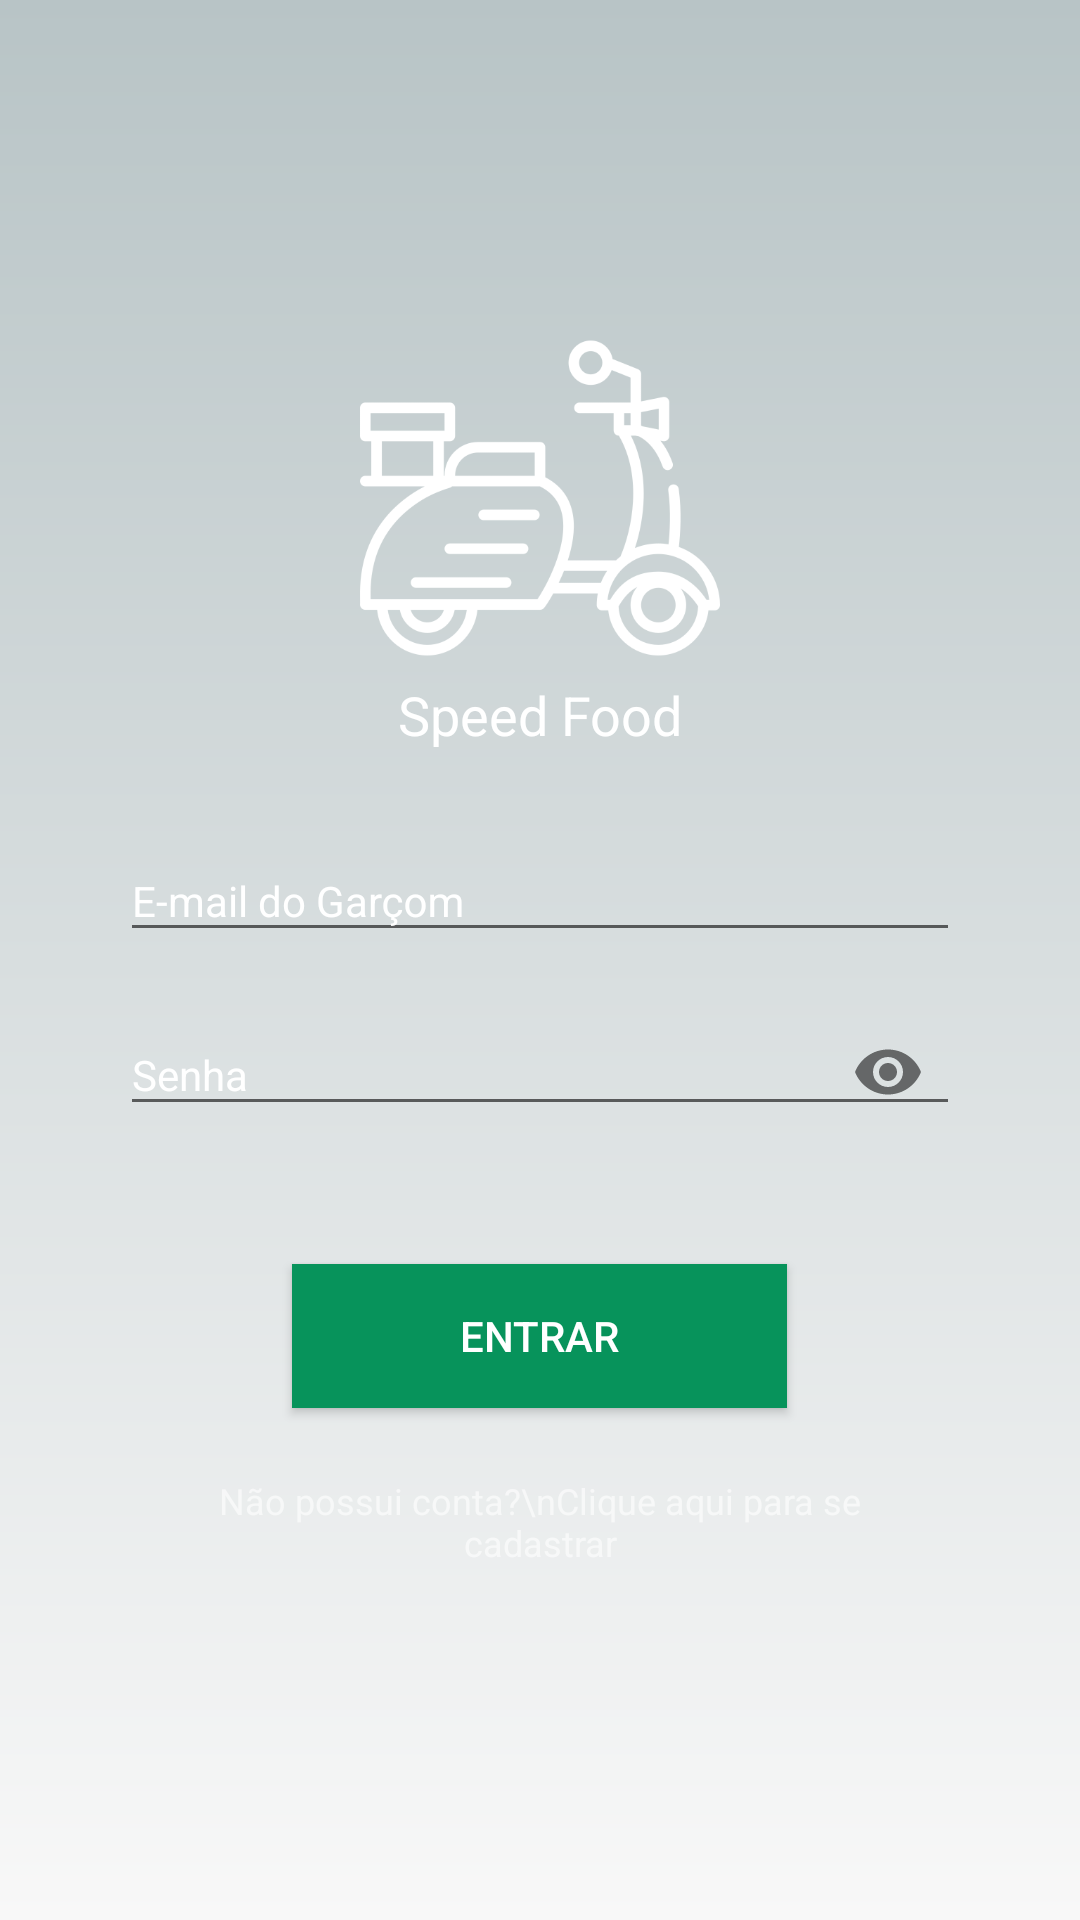

Icon bounding boxes for this 1080*1920 phone screenshot, format BBox(x1, y1, x2, y2):
entrega: BBox(360, 340, 720, 656)
